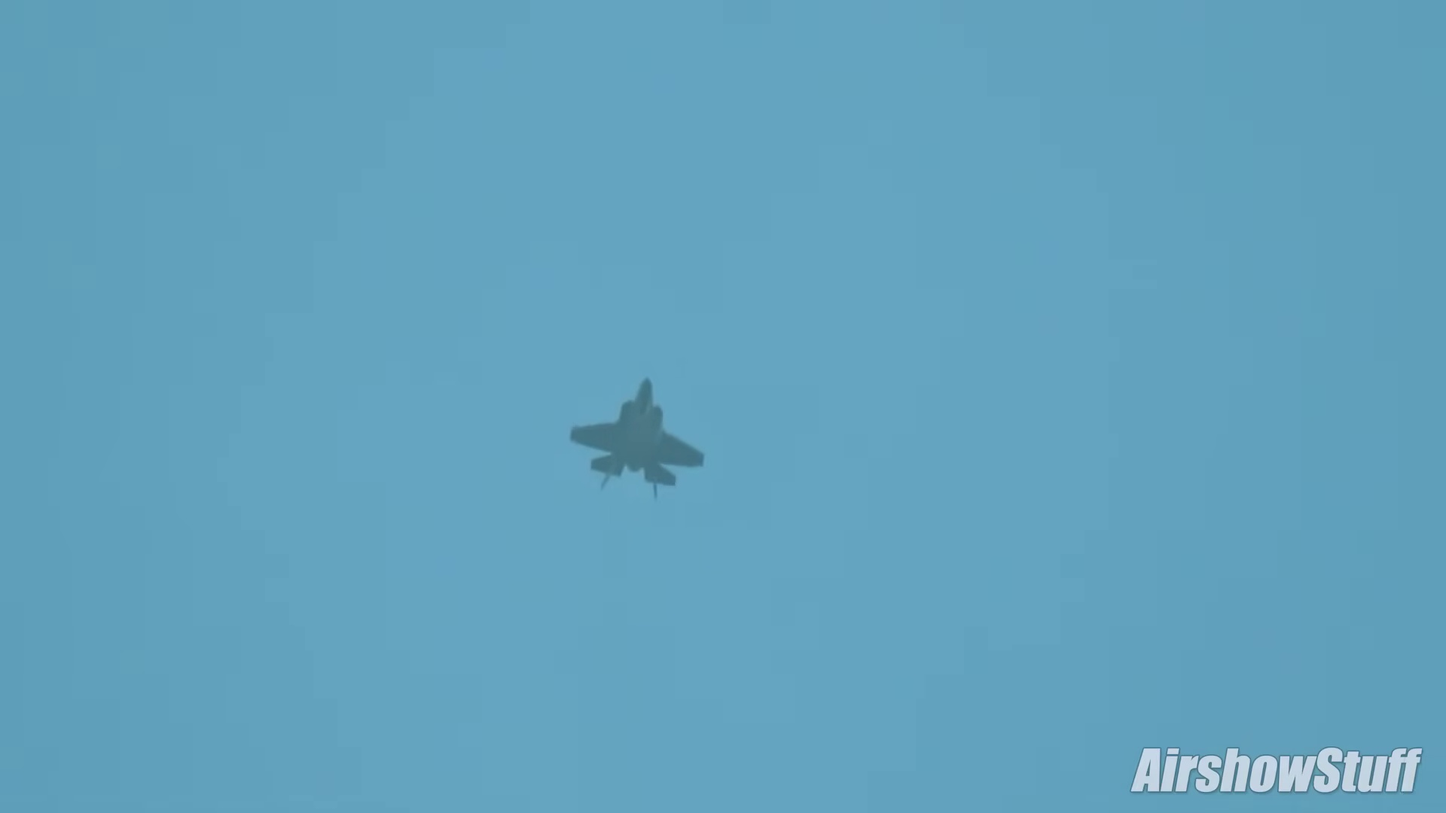F35: (559, 366, 713, 505)
